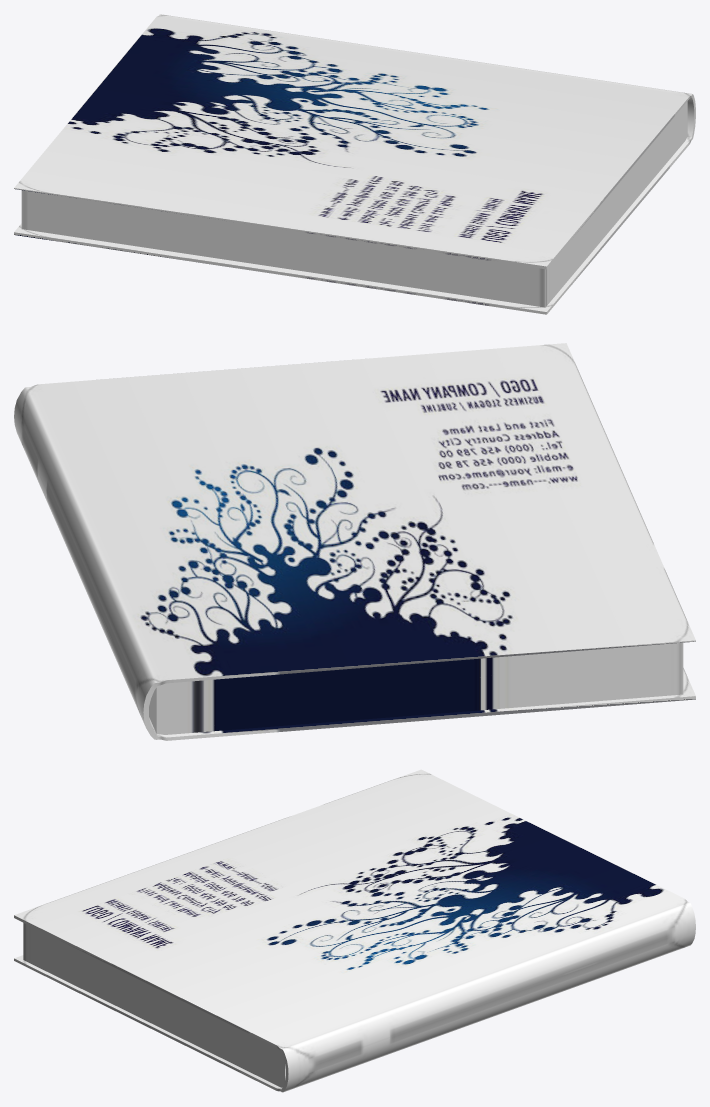
Rendered from Classroom-80.FBX.
The picture shows the model from 3 angles, top to bottom: view 1: azimuth 30°, elevation 25°; view 2: azimuth 150°, elevation 25°; view 3: azimuth 270°, elevation 25°; orthographic projection. The views are drawn at different scales.
Parts seen in each view (by area): view 1: Classroom-80; view 2: Classroom-80; view 3: Classroom-80.
Part boxes in pixels (x1,y1,x2,y2): Classroom-80: (14, 14, 695, 314); Classroom-80: (14, 343, 695, 740); Classroom-80: (14, 769, 695, 1092).
Bounding box in the file's own units: 267 × 20.13 × 272.
